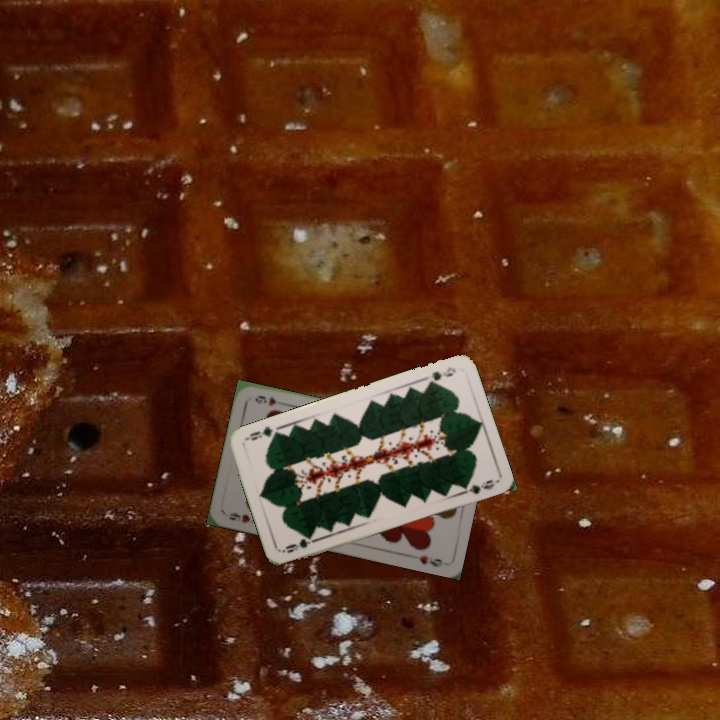G9: (420, 363, 459, 388), (279, 534, 319, 556)
H9: (225, 508, 252, 526)
